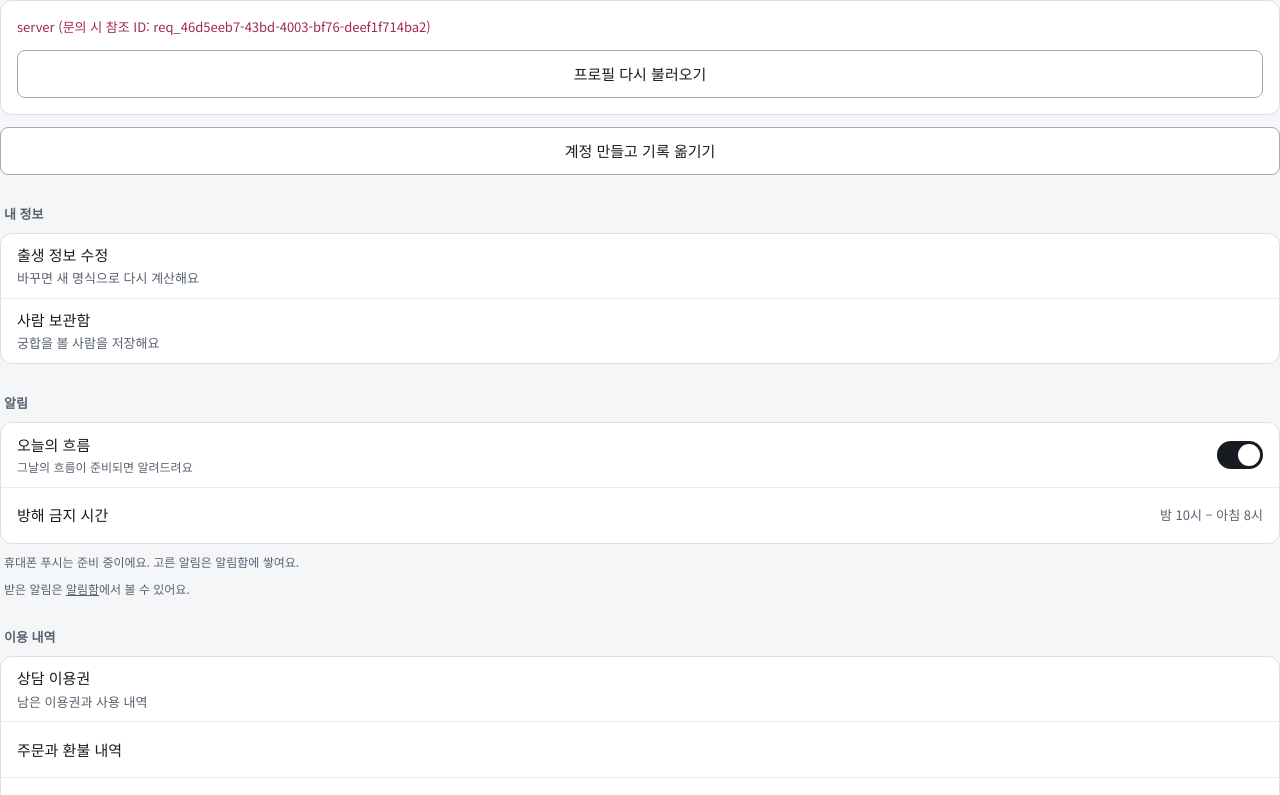
Test: settings profile card › shows a loading state, then a retryable error when the server profile fails
Expected: the message is shown, x1=17 y1=17 x2=431 y2=36
Expected: the text "서연" is not shown
Step 1. Click the button "프로필 다시 불러오기" → [640, 74], box x1=17 y1=50 x2=1263 y2=98
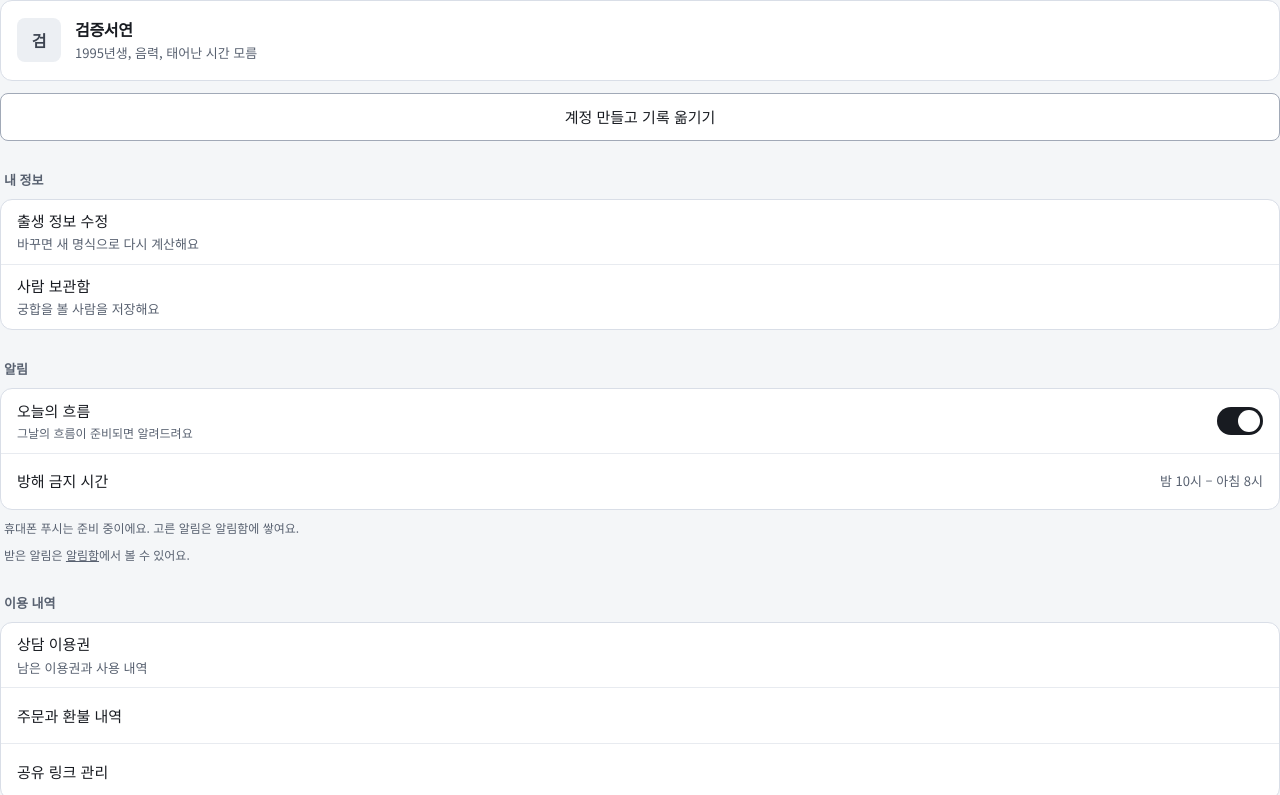
Now the text "검증서연" is shown, box x1=75 y1=17 x2=133 y2=41
